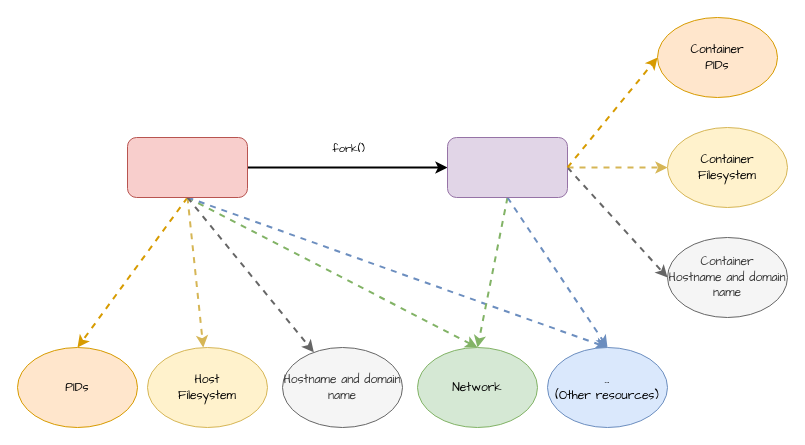
Some shapes in this 805 by 445 pixel diagram are drawn without their labels. The shapes that lost their labels are listed below. From the top down, each one's centre as x and y in pixels, then its label:
the point at 187,167: Container Agent
the point at 507,167: Container
